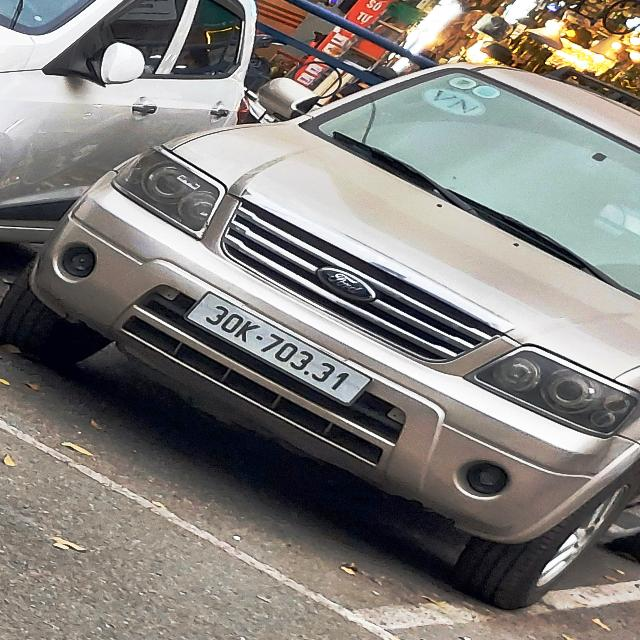license_plate: (185, 285, 378, 408)
